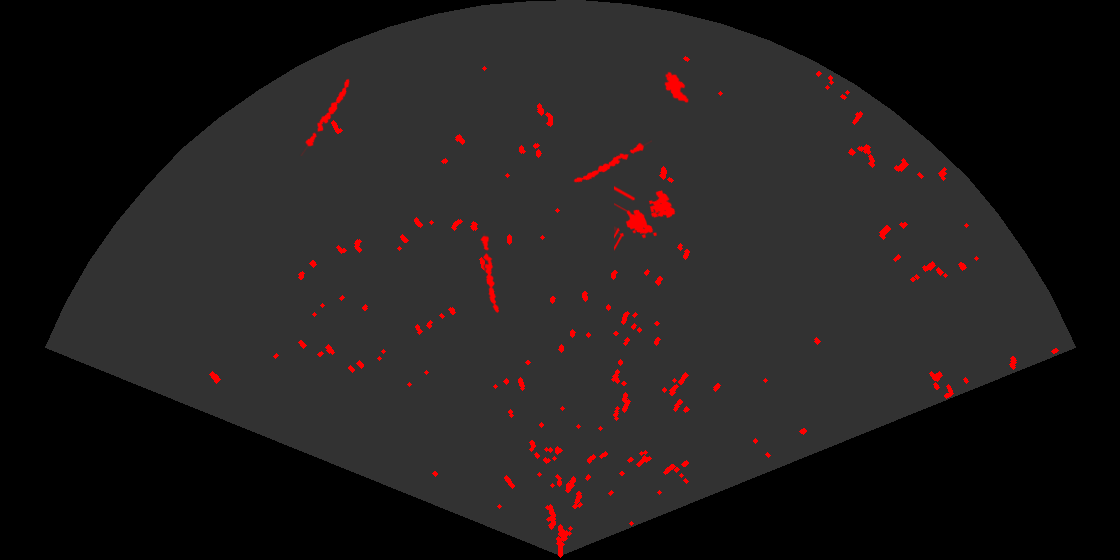AUV: (663, 70, 690, 105)
cage: (614, 184, 677, 252)
chain: (299, 77, 351, 156), (572, 139, 652, 184), (479, 233, 501, 315)
